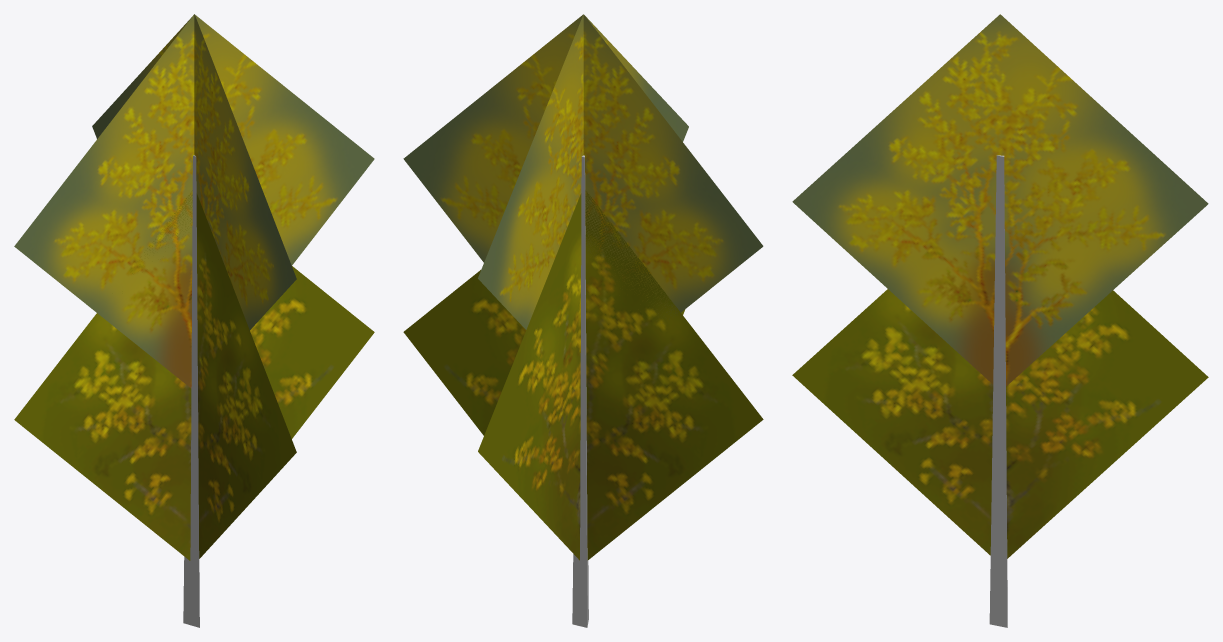
The model's file is JiaYeSiWai1_YuanJingShu_1.FBX.
The picture shows the model from 3 angles, left to right: view 1: azimuth 30°, elevation 25°; view 2: azimuth 150°, elevation 25°; view 3: azimuth 270°, elevation 25°; orthographic projection.
Parts seen in each view (by area): view 1: JiaYeSiWai1_YuanJingShu_1a, JiaYeSiWai1_YuanJingShu_1b; view 2: JiaYeSiWai1_YuanJingShu_1a, JiaYeSiWai1_YuanJingShu_1b; view 3: JiaYeSiWai1_YuanJingShu_1a, JiaYeSiWai1_YuanJingShu_1b.
Part boxes in pixels (x1=…): JiaYeSiWai1_YuanJingShu_1a: x1=14, y1=14, x2=374, y2=560; JiaYeSiWai1_YuanJingShu_1b: x1=183, y1=155, x2=199, y2=627; JiaYeSiWai1_YuanJingShu_1a: x1=403, y1=14, x2=763, y2=560; JiaYeSiWai1_YuanJingShu_1b: x1=572, y1=155, x2=588, y2=627; JiaYeSiWai1_YuanJingShu_1a: x1=792, y1=14, x2=1208, y2=558; JiaYeSiWai1_YuanJingShu_1b: x1=989, y1=155, x2=1007, y2=627.
Bounding box in the file's own units: 361 × 584 × 361.
